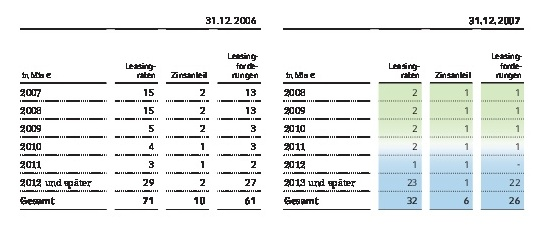table: (0, 0, 541, 231)
